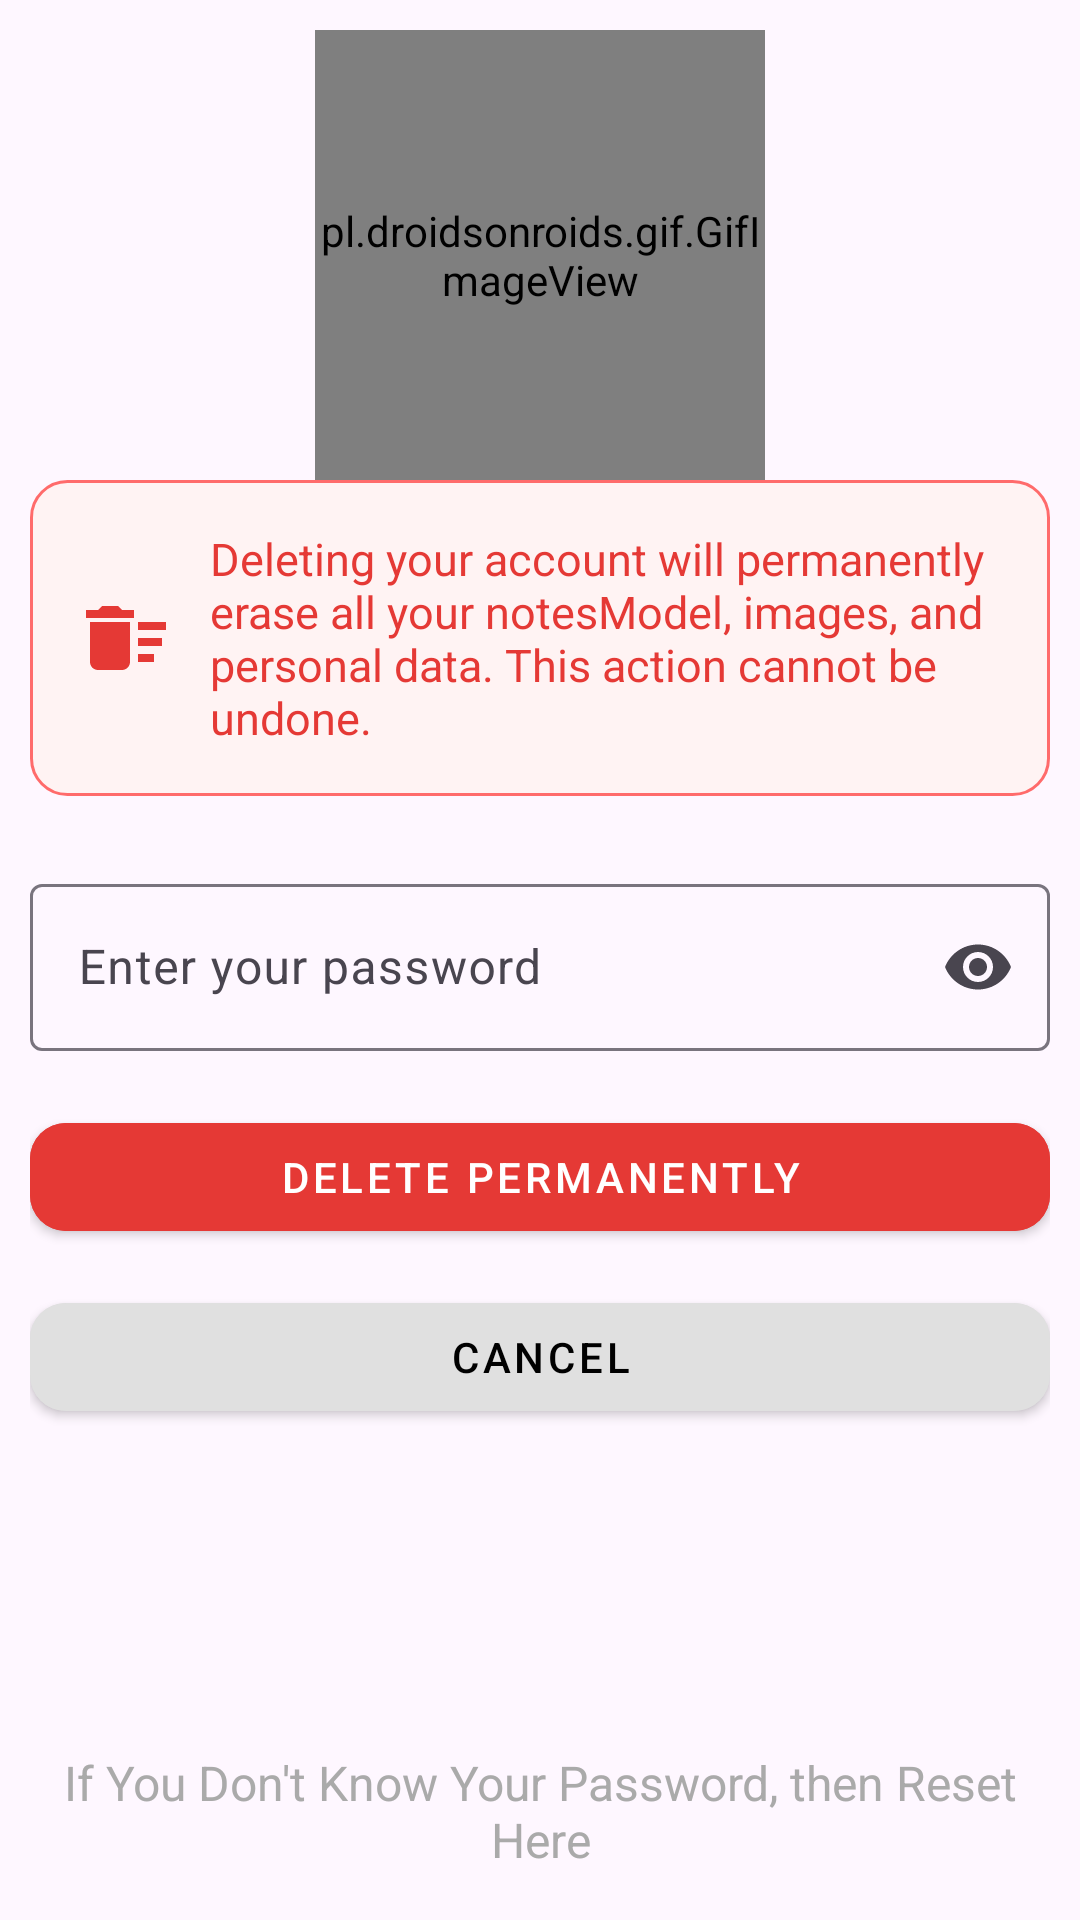

Named icons in this screenshot (1080 × 1920) and their centers, [x,y]:
delete sweep: [126,638]
